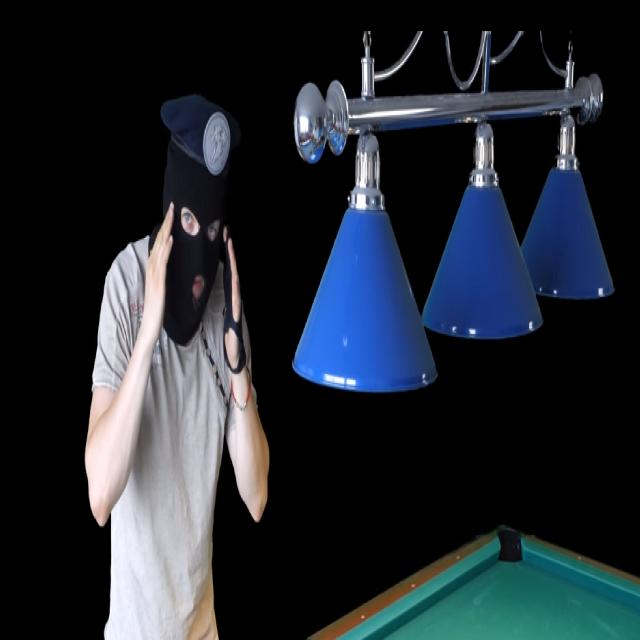hat: (158, 88, 237, 180)
